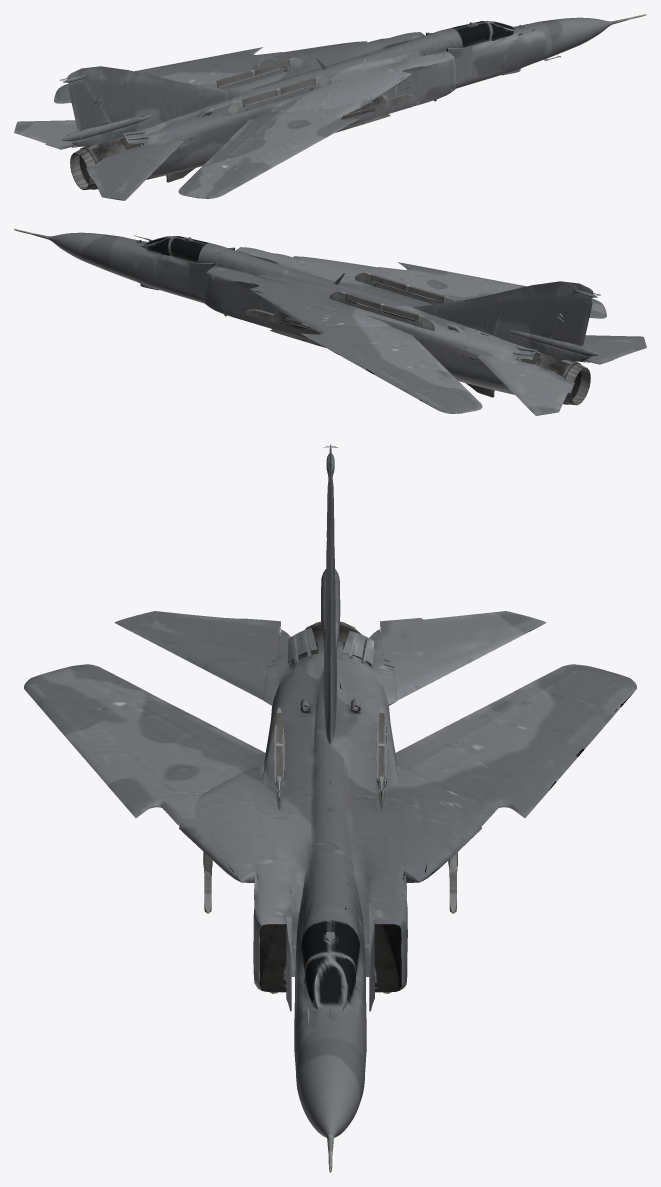
File: fh_hangar_fighter_1.glb
The picture shows the model from 3 angles, top to bottom: view 1: azimuth 30°, elevation 25°; view 2: azimuth 150°, elevation 25°; view 3: azimuth 270°, elevation 25°; orthographic projection. The views are drawn at different scales.
Visible parts, largest first — view 1: fh_hangar_fighter_1; view 2: fh_hangar_fighter_1; view 3: fh_hangar_fighter_1.
Boxes of the visible parts, <box> form: fh_hangar_fighter_1: <box>14,14,646,200</box>; fh_hangar_fighter_1: <box>14,229,646,415</box>; fh_hangar_fighter_1: <box>24,444,636,1172</box>.
Bounding box in the file's own units: 1 × 0.2186 × 0.4508.
Materials: 2 (2 with a texture image).
